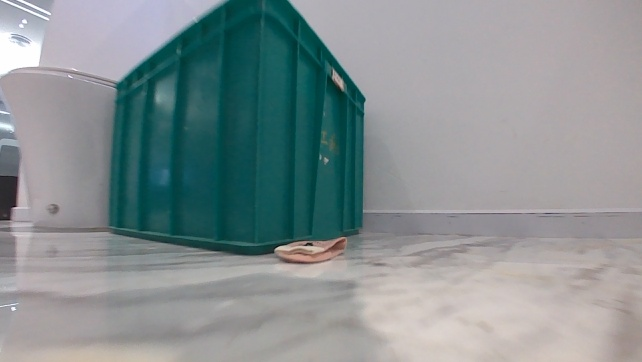socks: (269, 233, 352, 268)
toilet: (0, 63, 118, 232)
